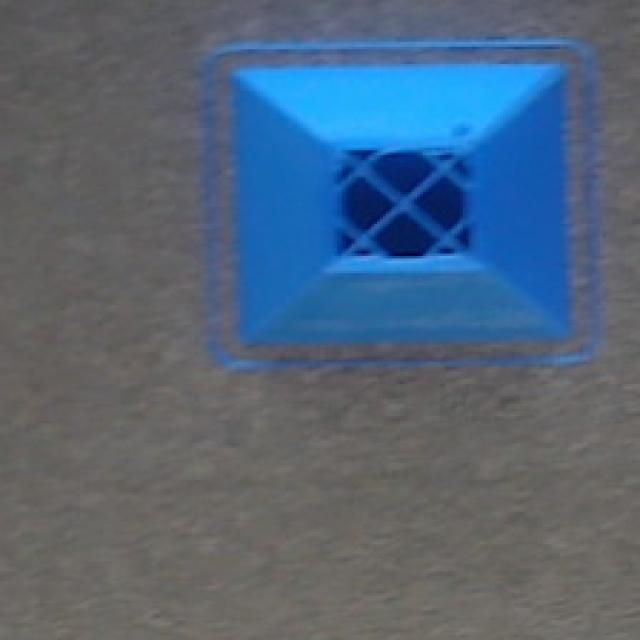noMistake: (211, 55, 601, 353)
